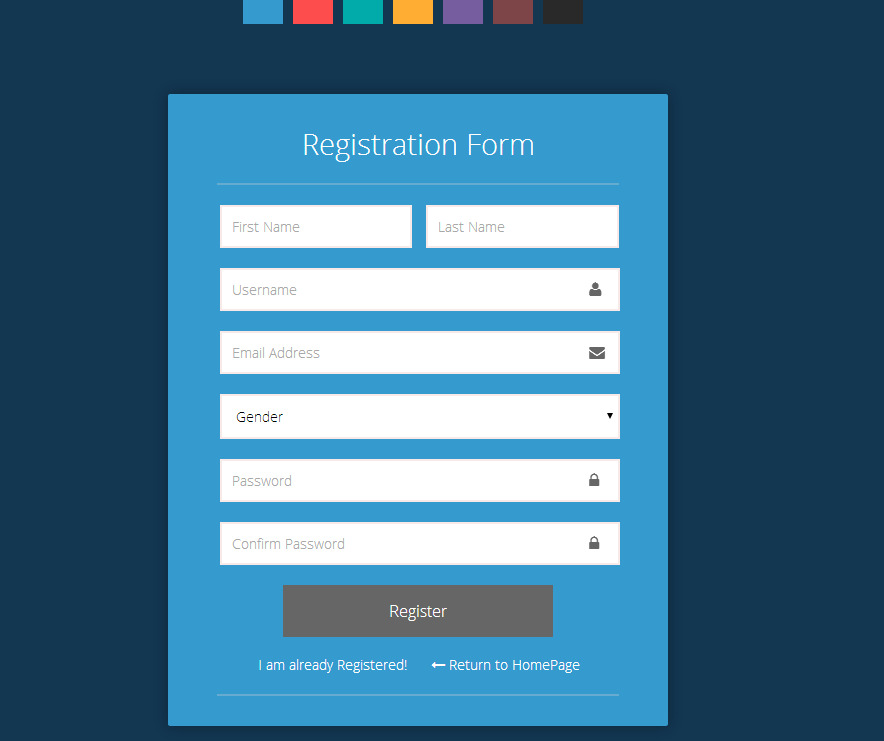_form_: (210, 100, 626, 516), (211, 252, 627, 668)
button: (281, 583, 554, 638)
field: (218, 393, 623, 441), (217, 266, 623, 313), (217, 329, 622, 376), (217, 521, 622, 566), (218, 458, 622, 503), (425, 204, 622, 249), (219, 204, 413, 249)
